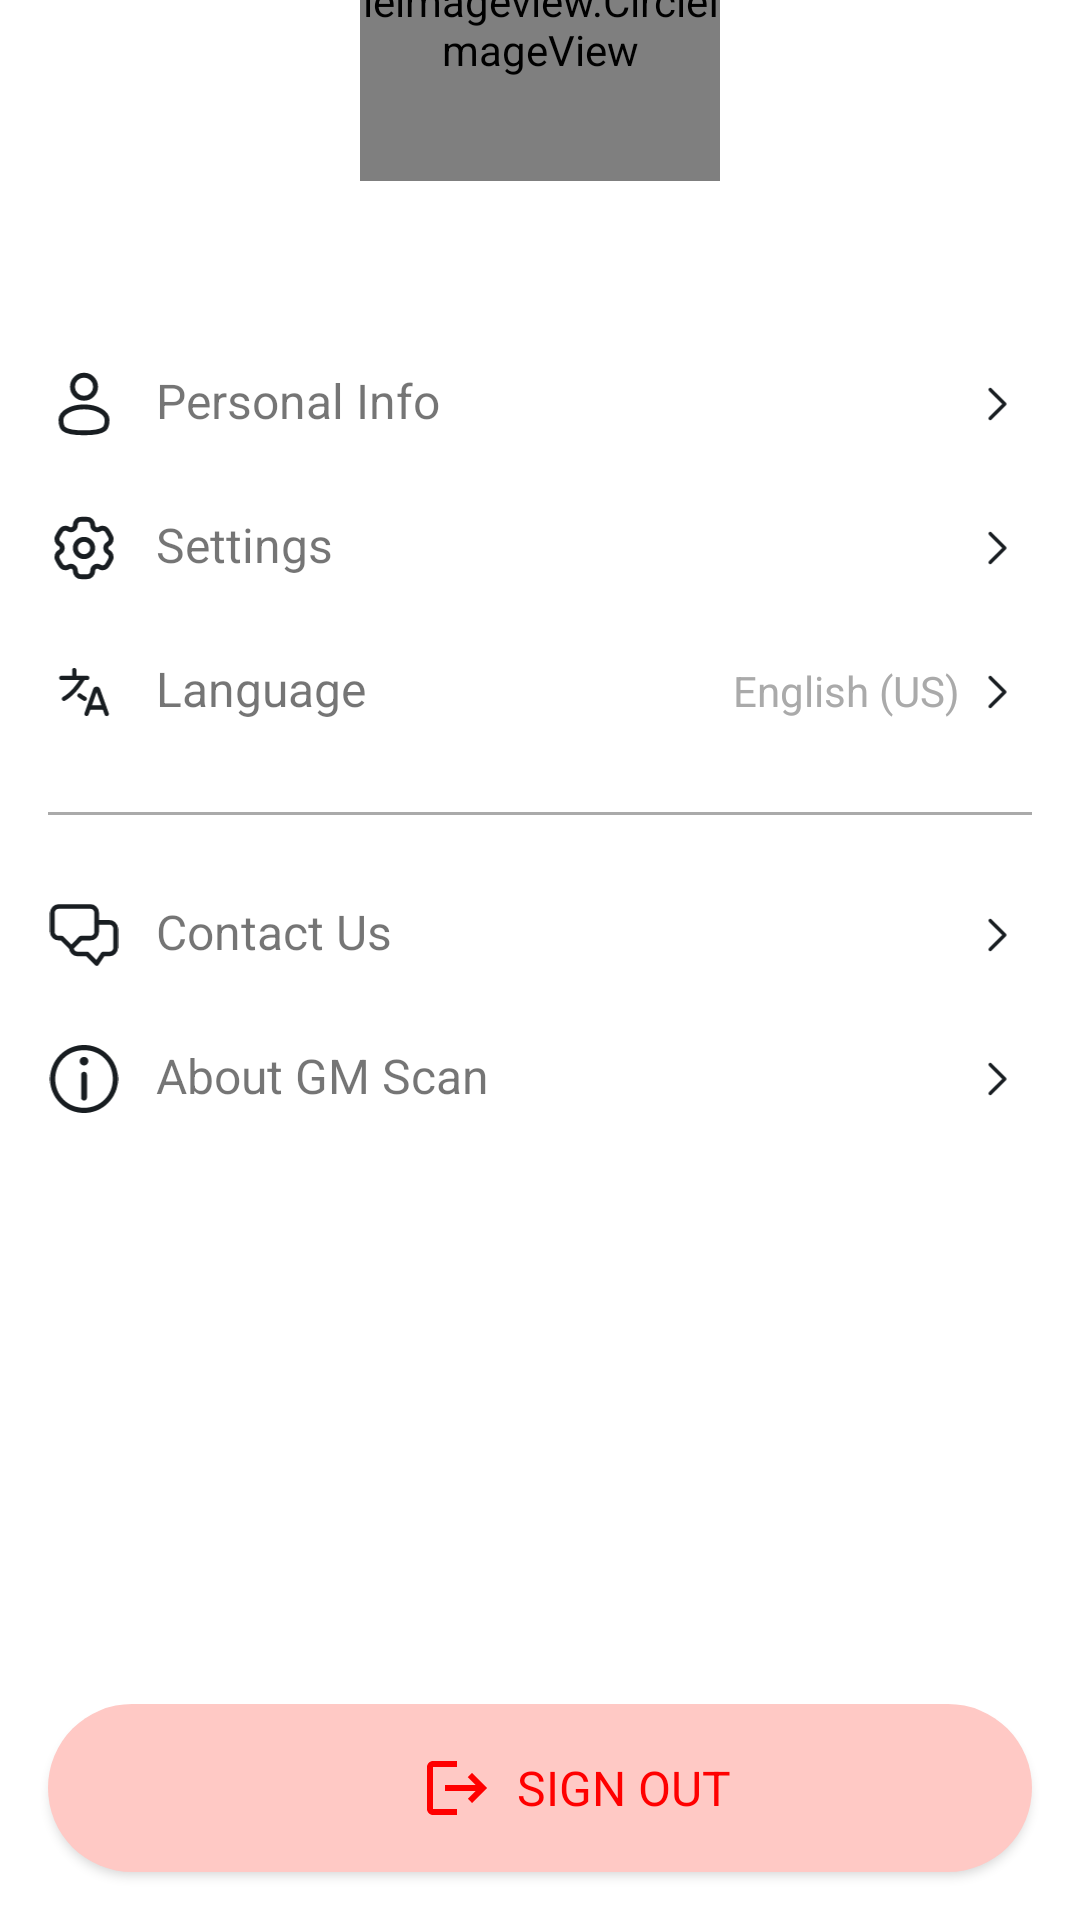

Named icons in this screenshot (1080px x 1920px) and their bounding boxes, (x1, y1, x2, y2):
right arrow: (988, 387, 1007, 421), (988, 531, 1007, 565), (988, 675, 1007, 709), (988, 918, 1007, 952), (988, 1062, 1007, 1096)
user profile: (58, 372, 110, 436)
